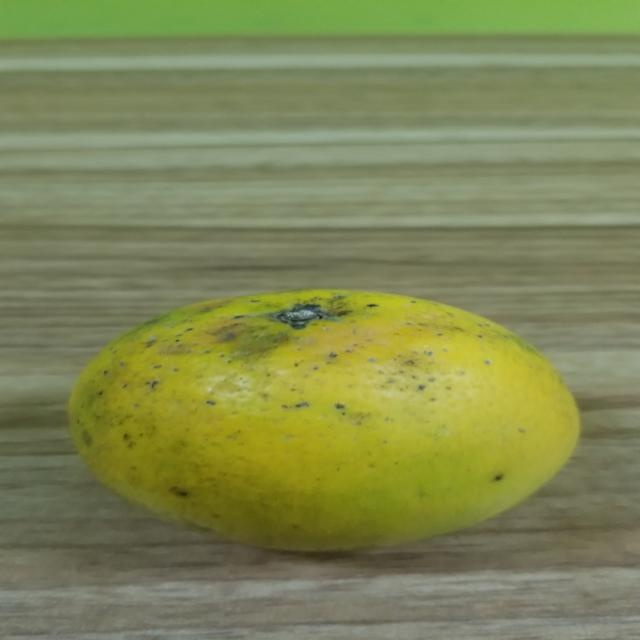agrume: (69, 283, 578, 548)
